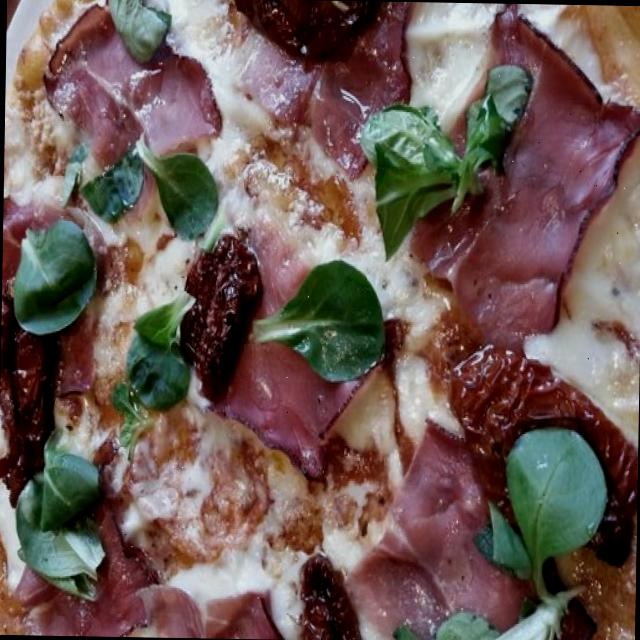basil: (500, 420, 607, 613), (357, 100, 478, 258), (250, 260, 386, 383), (5, 442, 104, 600), (110, 300, 194, 446), (454, 62, 534, 212), (126, 134, 220, 244), (14, 215, 96, 333), (395, 605, 573, 640), (99, 0, 168, 70), (82, 150, 139, 225)
pizza: (0, 0, 640, 640)
